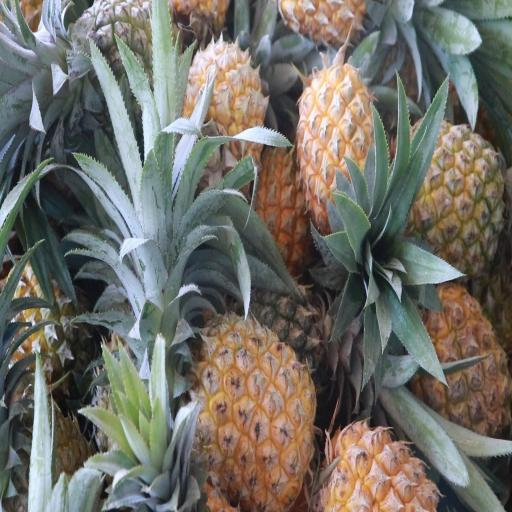Pineapple - v8 v1: (197, 317, 315, 511), (410, 280, 512, 440), (406, 127, 506, 282), (299, 71, 381, 237), (182, 40, 265, 174)
